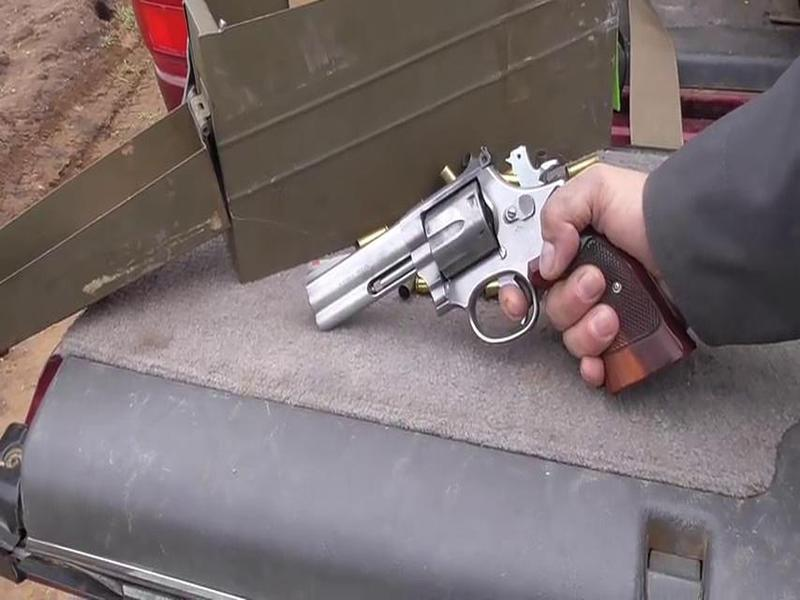Revolver: (295, 133, 742, 403)
